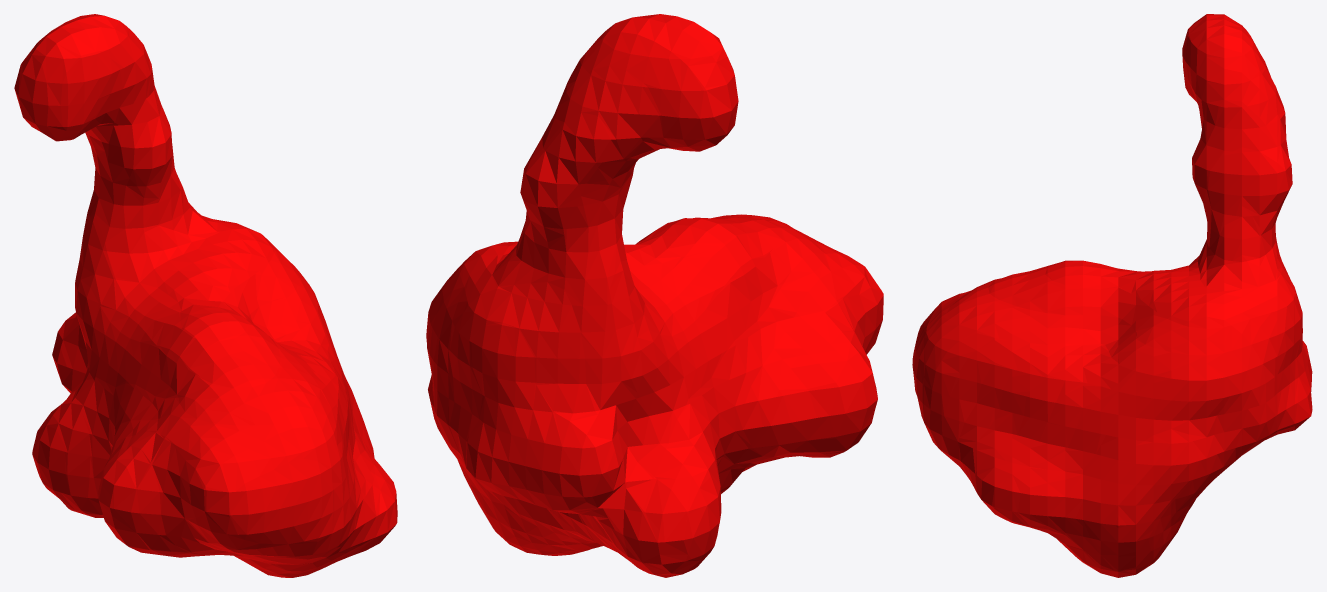
File: dut_coarse.dae
3 views of the same model, side by side, from view 1: azimuth 30°, elevation 25°; view 2: azimuth 150°, elevation 25°; view 3: azimuth 270°, elevation 25° (orthographic). The views are drawn at different scales.
Parts seen in each view (by area): view 1: dut; view 2: dut; view 3: dut.
Part boxes in pixels (<box>): dut: <box>14,14,397,577</box>; dut: <box>426,14,883,577</box>; dut: <box>912,14,1312,577</box>.
Size of the model in its own units: 37.69 by 62.51 by 47.16.
